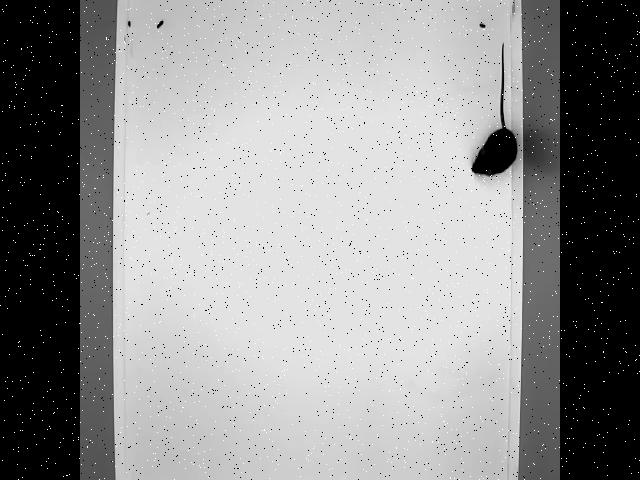Tikus: (468, 42, 520, 181)
